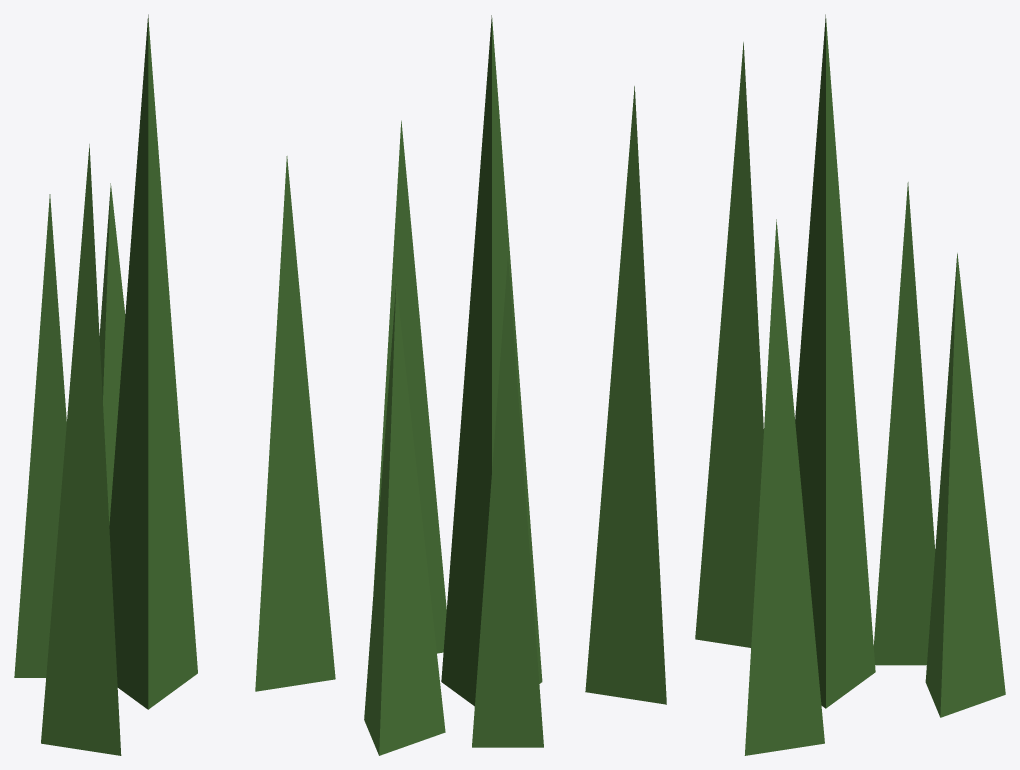
The model's file is grass.glb.
3 views of the same model, side by side, from view 1: azimuth 30°, elevation 25°; view 2: azimuth 150°, elevation 25°; view 3: azimuth 270°, elevation 25° (orthographic).
Parts seen in each view (by area): view 1: grass; view 2: grass; view 3: grass.
Part boxes in pixels (x1,y1,x2,y2): grass: [14, 14, 335, 755]; grass: [364, 15, 666, 755]; grass: [695, 14, 1005, 755].
Bounding box in the file's own units: 0.2012 × 0.45 × 0.189.
